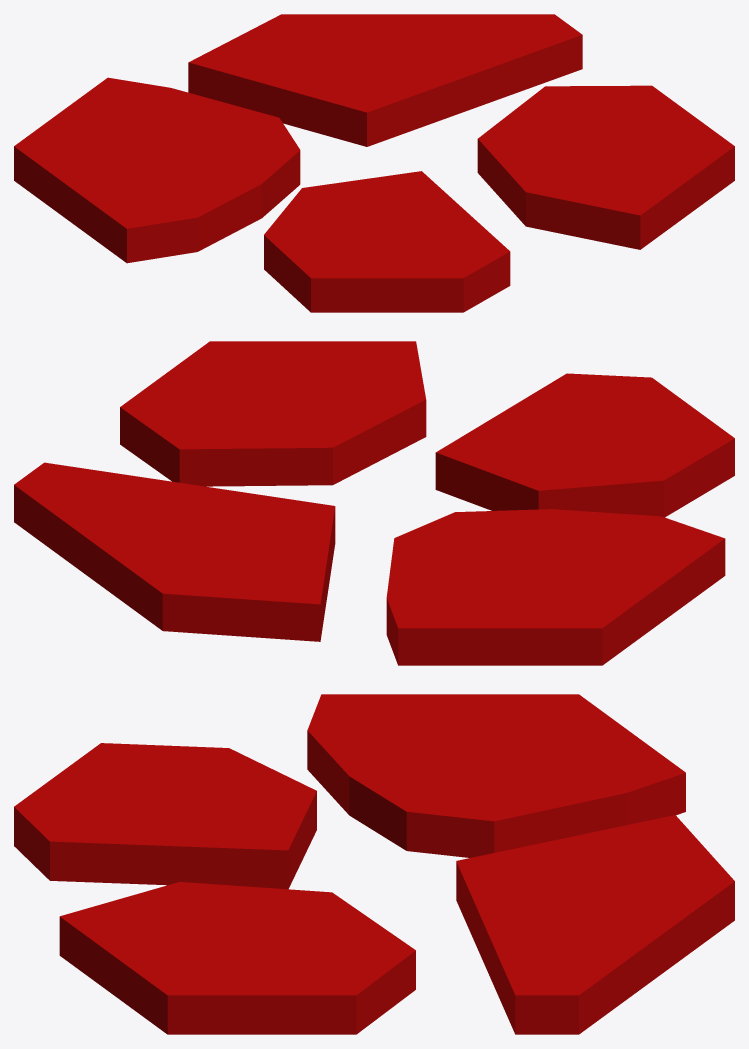
Rendered from TileHex_16.fbx.
3 views of the same model, one above another, from view 1: azimuth 30°, elevation 25°; view 2: azimuth 150°, elevation 25°; view 3: azimuth 270°, elevation 25° (orthographic). The views are drawn at different scales.
Visible parts, largest first — view 1: TileHex_16; view 2: TileHex_16; view 3: TileHex_16.
Part boxes in pixels (x1,y1,x2,y2): TileHex_16: (14,14,734,312); TileHex_16: (14,341,734,665); TileHex_16: (14,694,734,1034).
Size of the model in its own units: 391 by 23.79 by 396.
